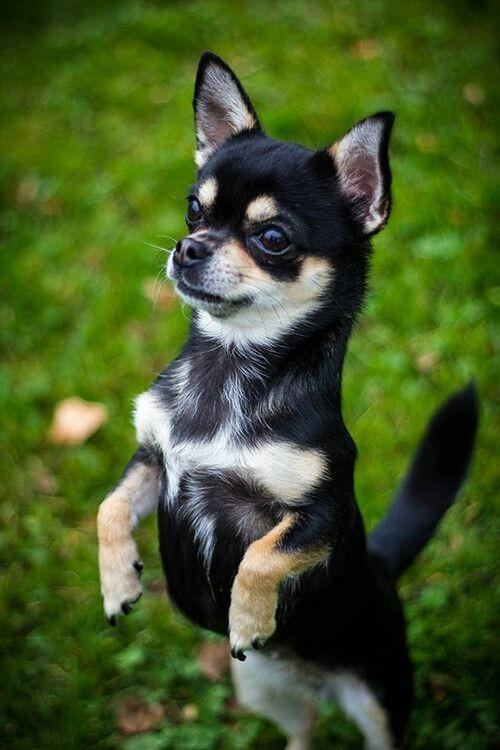adult_dog: (94, 49, 484, 750)
